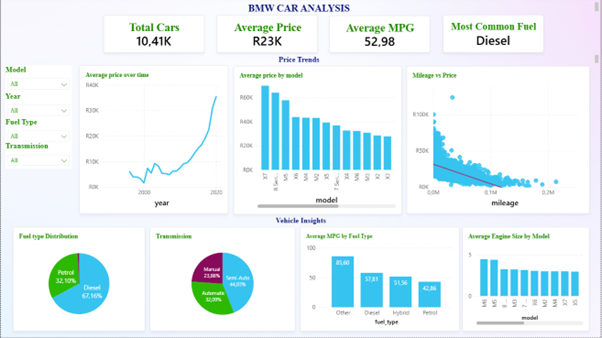

The page's visual inventory and layout, read from the dashboard file:
{"tool":"powerbi","page":{"name":"Page 1","canvas":[1280,720],"ordinal":0},"visuals":[{"type":"textbox","box":[0,0,1280.3,31.8],"z":0},{"type":"card","title":"Total Cars","fields":{"Values":["CountNonNull(Table3.model)"]},"box":[218.9,31.8,215.2,80.7],"z":1000},{"type":"card","title":"Average Price","fields":{"Values":["Avg(Table3.price)"]},"box":[461,31.8,215.2,80.7],"z":2000},{"type":"card","title":"Average MPG","fields":{"Values":["Avg(Table3.mpg)"]},"box":[700.7,33,215.2,79.5],"z":3000},{"type":"card","title":"Most Common Fuel","fields":{"Values":["Table3.Most Common Fuel"]},"box":[942.8,31.8,215.2,80.7],"z":4000},{"type":"textbox","box":[0,112.5,1280.3,26.9],"z":5000},{"type":"slicer","title":"Model","fields":{"Values":["Table3.model"]},"box":[9.8,139.4,141.8,56.3],"z":6000},{"type":"slicer","title":"Year","fields":{"Values":["Table3.year"]},"box":[9.8,195.7,141.8,55],"z":7000},{"type":"slicer","title":"Fuel Type","fields":{"Values":["Table3.fuel_type"]},"box":[9.8,250.7,141.8,55],"z":8000},{"type":"slicer","title":"Transmission","fields":{"Values":["Table3.transmission"]},"box":[9.8,302,141.8,57.5],"z":9000},{"type":"lineChart","title":"Average price over time","fields":{"Category":["Table3.year"],"Y":["Avg(Table3.price)"]},"box":[167.5,139.4,317.9,316.7],"z":10000},{"type":"clusteredColumnChart","title":"Average price by model","fields":{"Category":["Table3.model"],"Y":["Avg(Table3.price)"]},"box":[496.5,140.6,359.5,316.7],"z":11000},{"type":"pieChart","title":"Fuel type Distribution","fields":{"Category":["Table3.fuel_type"],"Y":["CountNonNull(Table3.model)"]},"box":[25.7,484.2,282.5,222.6],"z":12000},{"type":"textbox","box":[0,456.1,1280.3,28.1],"z":13000},{"type":"pieChart","title":"Transmission","fields":{"Category":["Table3.transmission"],"Y":["CountNonNull(Table3.model)"]},"box":[317.9,484.2,310.6,222.6],"z":14000},{"type":"scatterChart","title":"Mileage vs Price","fields":{"X":["Table3.mileage"],"Y":["Avg(Table3.price)"]},"box":[865.8,140.6,390.1,315.5],"z":15000},{"type":"columnChart","title":"Average Engine Size by Model","fields":{"Y":["Avg(Table3.engine_size)"],"Category":["Table3.model"]},"box":[984.4,484.2,271.5,222.6],"z":16000},{"type":"columnChart","title":"Average MPG by Fuel Type","fields":{"Y":["Avg(Table3.mpg)"],"Category":["Table3.fuel_type"]},"box":[638.3,484.2,339.9,222.6],"z":17000}]}

Visuals, with their boxes in screenshot pixels (x1, y1, x2, y2), scaled from the page's 1280x720 canvas onto the 602x338 screenshot:
textbox: 0 0 601 15
"Total Cars" card: 103 15 204 53
"Average Price" card: 217 15 318 53
"Average MPG" card: 330 15 431 53
"Most Common Fuel" card: 443 15 545 53
textbox: 0 53 601 65
"Model" slicer: 5 65 71 92
"Year" slicer: 5 92 71 118
"Fuel Type" slicer: 5 118 71 144
"Transmission" slicer: 5 142 71 169
"Average price over time" lineChart: 79 65 228 214
"Average price by model" clusteredColumnChart: 234 66 403 215
"Fuel type Distribution" pieChart: 12 227 145 332
textbox: 0 214 601 227
"Transmission" pieChart: 150 227 296 332
"Mileage vs Price" scatterChart: 407 66 591 214
"Average Engine Size by Model" columnChart: 463 227 591 332
"Average MPG by Fuel Type" columnChart: 300 227 460 332
